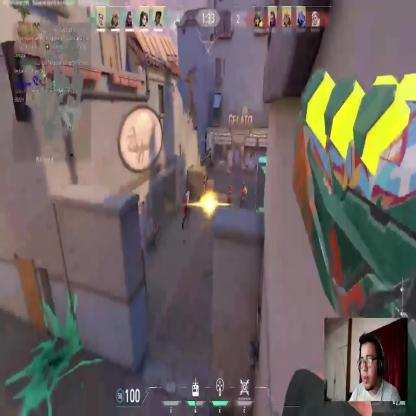enemy: (183, 190, 190, 228), (239, 182, 247, 210), (226, 183, 233, 213), (202, 174, 208, 202)
enemy_head: (242, 181, 246, 188), (186, 190, 190, 196), (203, 174, 206, 180), (228, 184, 231, 190)
